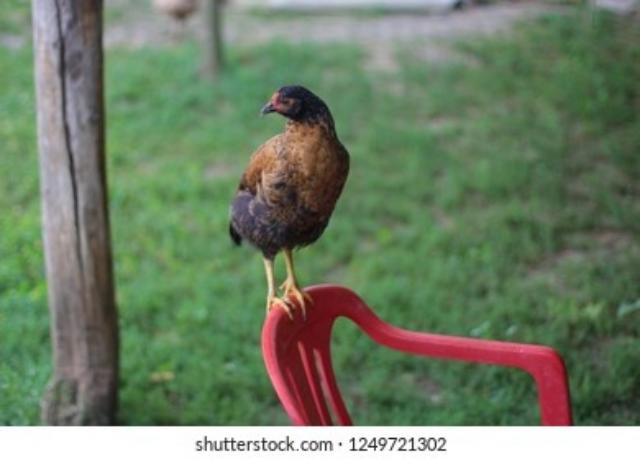Chicken: (229, 85, 351, 317)
